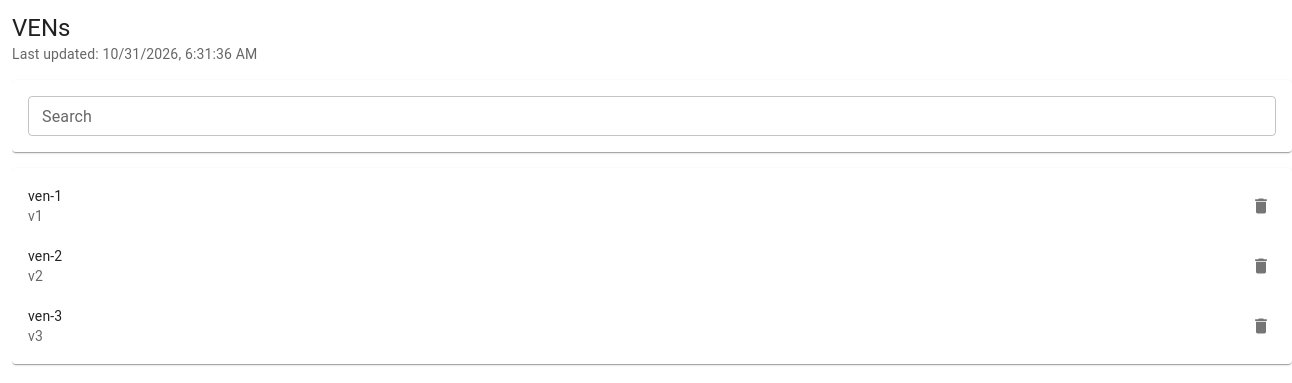
Test case: VensPage › filters VENs by search query
Step 1. Type "ven-1" into the field with test id "vens-search" → [652, 116], box top-left (28, 96), bottom-right (1276, 136)
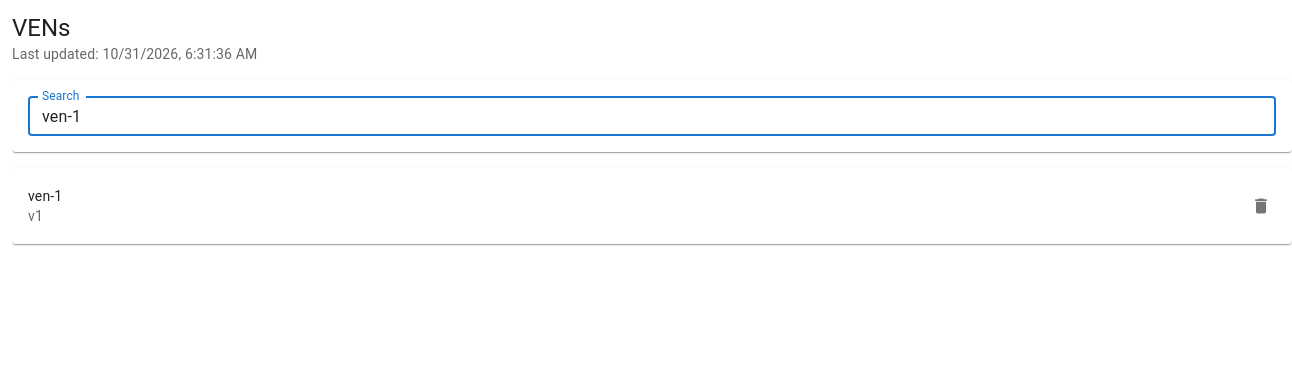
Check: the list item with test id "ven-item-v1" is shown, box top-left (12, 176), bottom-right (1291, 236)
Check: the list item with test id "ven-item-v2" is gone
Check: the list item with test id "ven-item-v3" is gone
